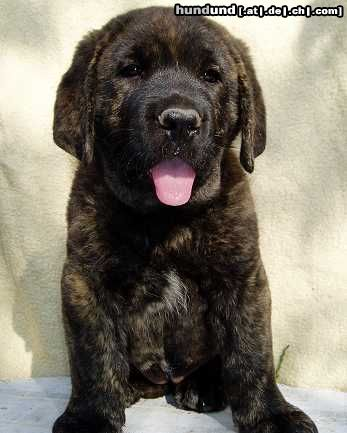mastin_espanol: (50, 7, 318, 433)
